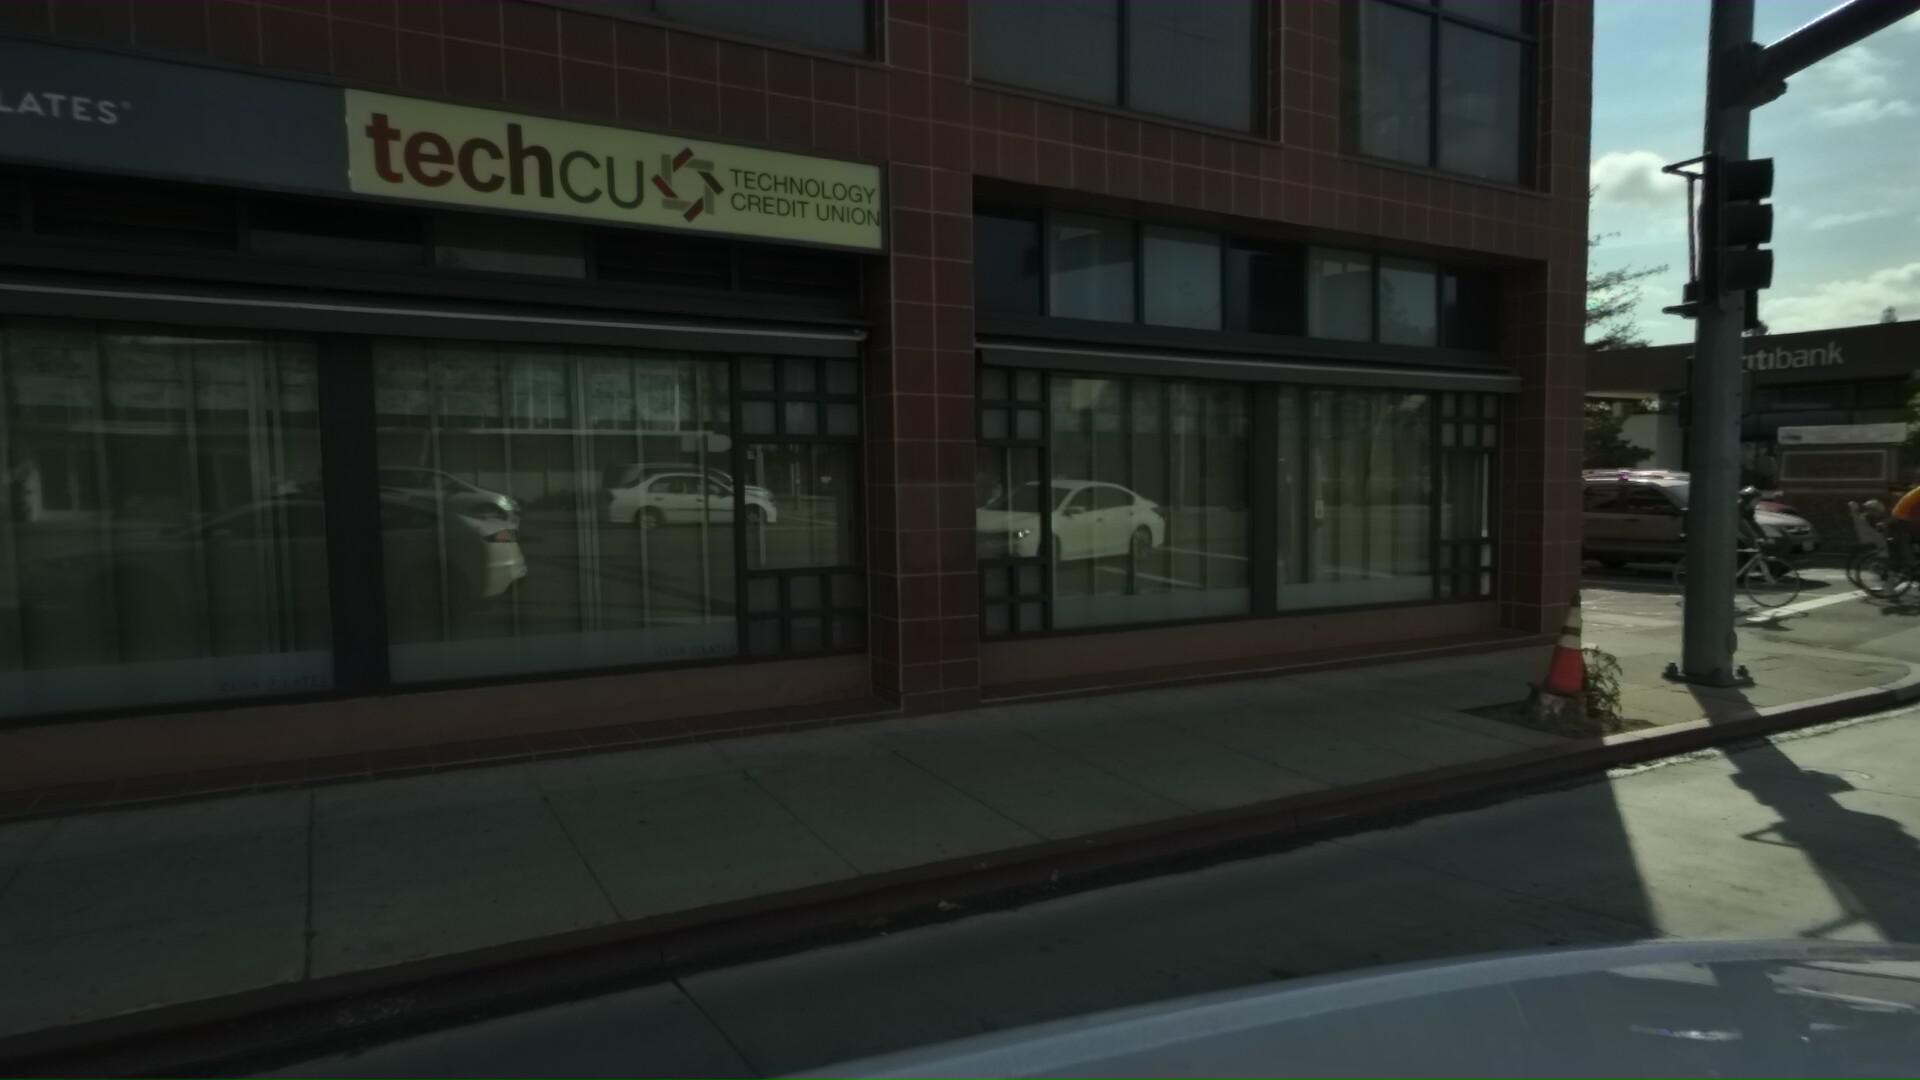bicycle: (1659, 463, 1840, 605), (1844, 460, 1920, 607), (1845, 459, 1920, 596)
car: (1528, 464, 1855, 583), (1532, 458, 1840, 568)
